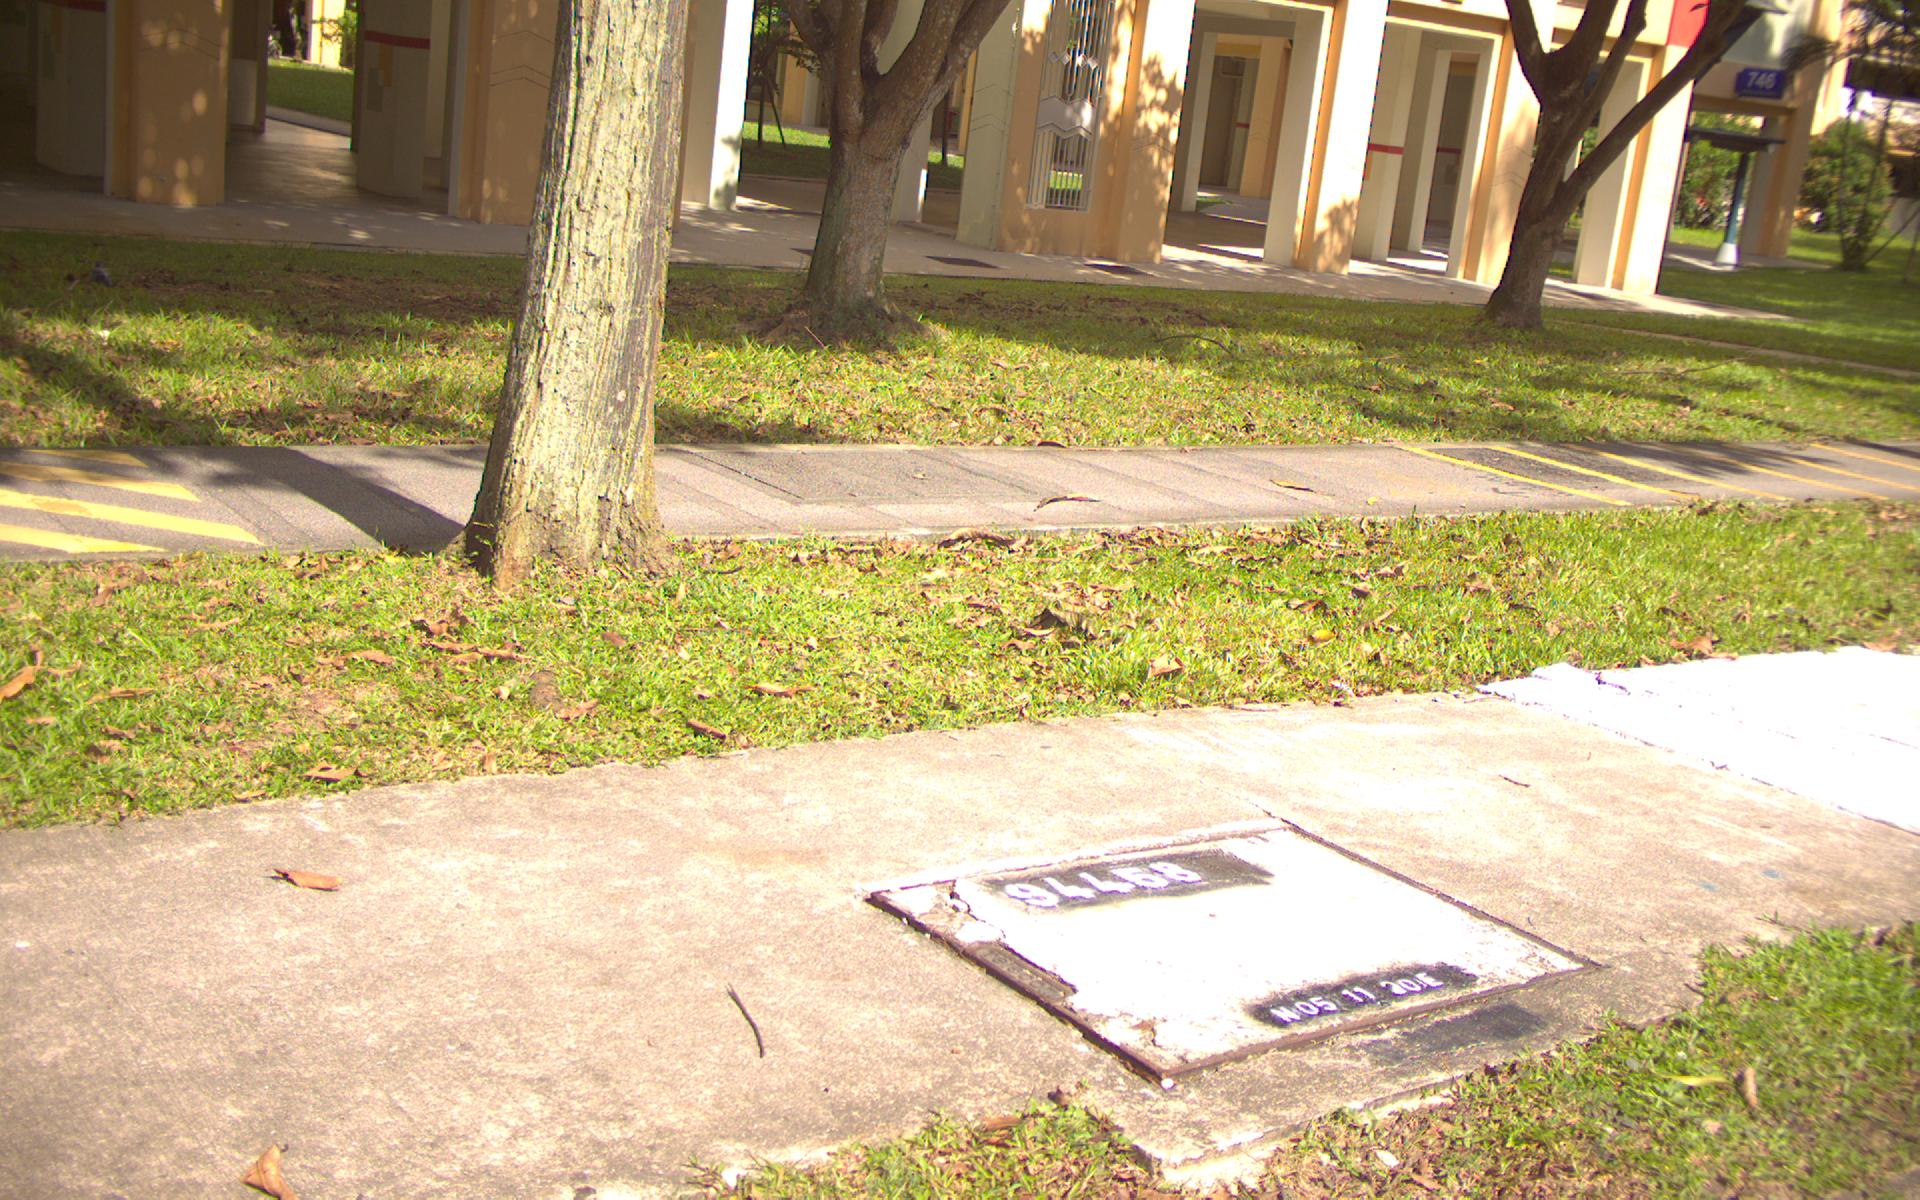pathway_low: (1, 834, 851, 1145), (4, 453, 1914, 495)
road_turf_low: (1, 241, 1920, 447), (10, 563, 1919, 640), (1713, 1031, 1920, 1200)
